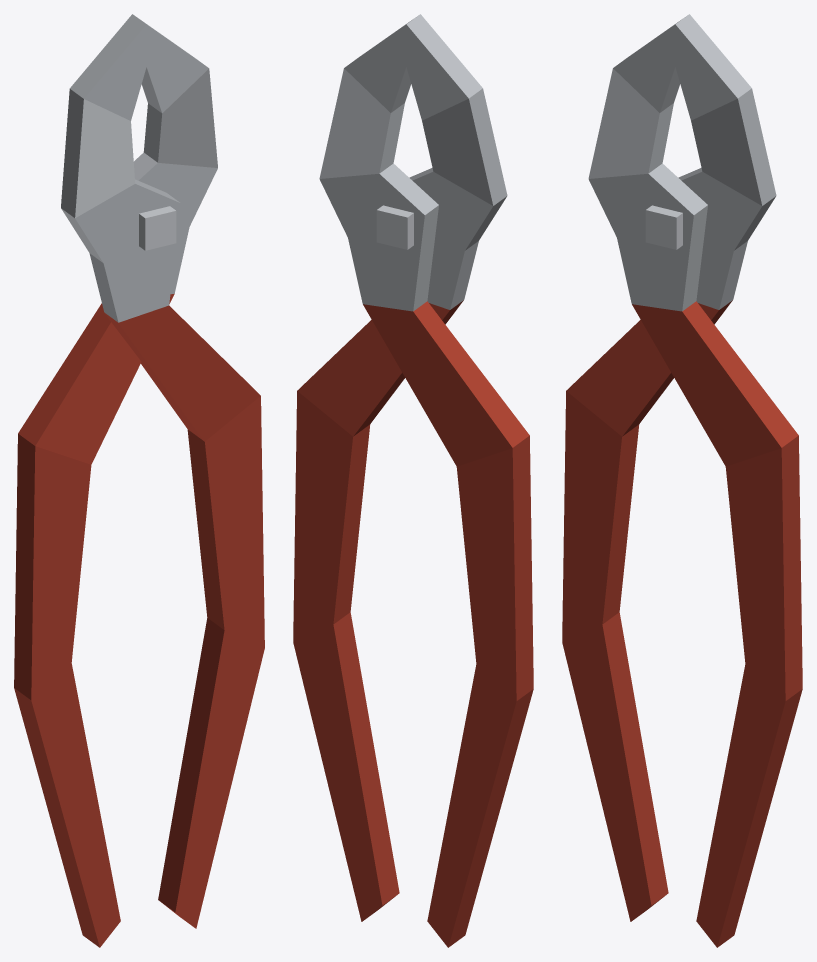
File: SM_Item_Wirecutter_02.fbx
3 views of the same model, side by side, from view 1: azimuth 30°, elevation 25°; view 2: azimuth 150°, elevation 25°; view 3: azimuth 330°, elevation 25° (orthographic).
Visible parts, largest first — view 1: SM_Item_Wirecutter_Handle_01, SM_Item_Wirecutter_02; view 2: SM_Item_Wirecutter_02, SM_Item_Wirecutter_Handle_01; view 3: SM_Item_Wirecutter_Handle_01, SM_Item_Wirecutter_02.
Part boxes in pixels (x1=…): SM_Item_Wirecutter_Handle_01: x1=61, y1=14, x2=264, y2=928; SM_Item_Wirecutter_02: x1=14, y1=17, x2=217, y2=947; SM_Item_Wirecutter_02: x1=319, y1=19, x2=533, y2=947; SM_Item_Wirecutter_Handle_01: x1=293, y1=14, x2=507, y2=921; SM_Item_Wirecutter_Handle_01: x1=588, y1=19, x2=802, y2=947; SM_Item_Wirecutter_02: x1=562, y1=14, x2=776, y2=921.
Bounding box in the file's own units: 8.18 × 31.15 × 2.64.
